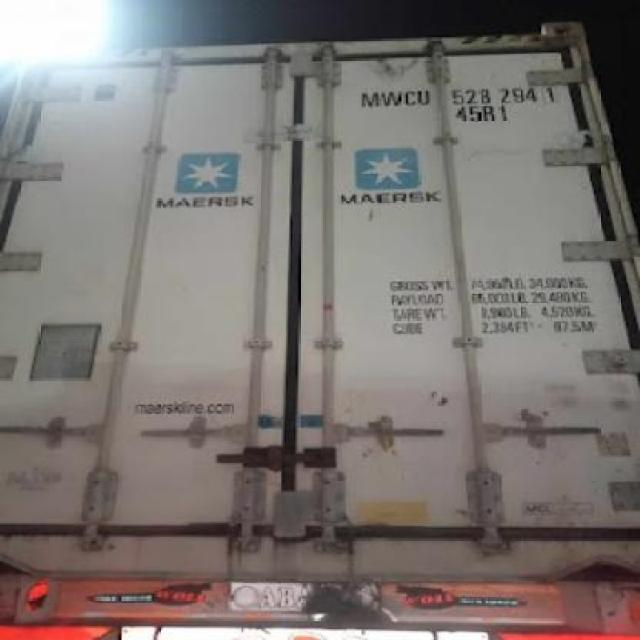ISO: (454, 102, 514, 124)
container_number: (362, 84, 560, 106)
